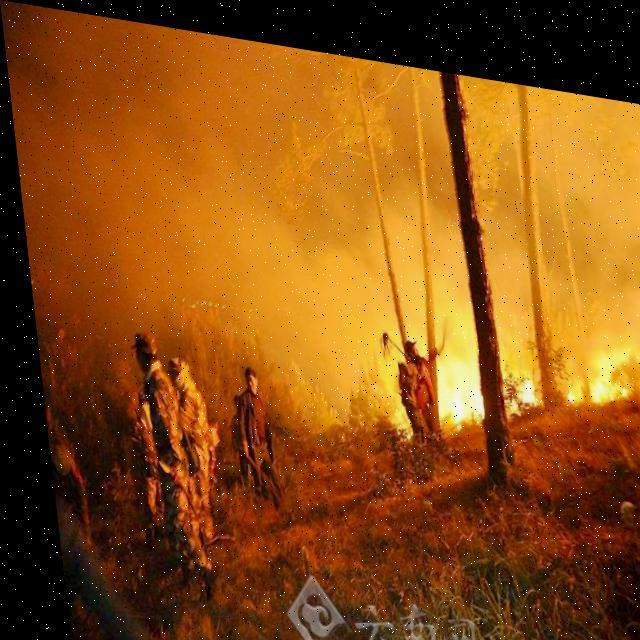Fire: (548, 316, 639, 392), (423, 349, 478, 413), (498, 343, 532, 408), (384, 376, 404, 428)
